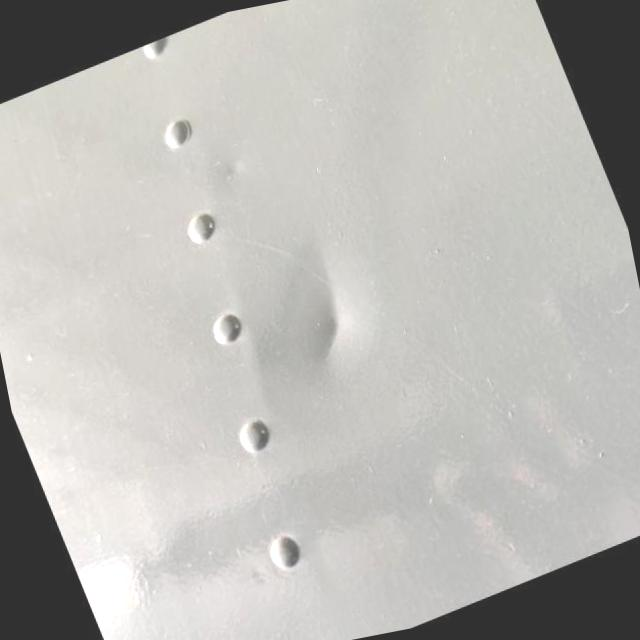dent: (270, 236, 364, 399)
